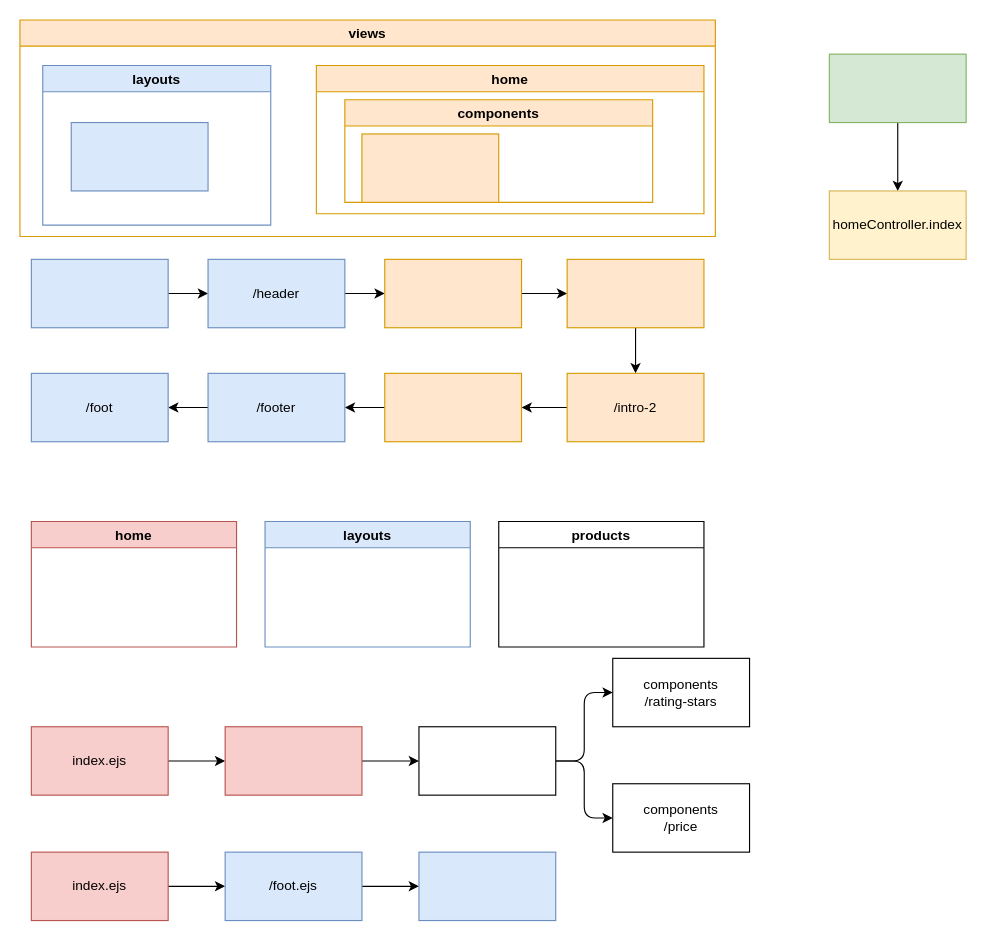
The diagram is 986 pixels wide and 941 high, and some of its shapes have lost their labels. The centre of each missing label's shape, as x and y in pixels:
".get (/)" goes at point (897, 88).
"/gtag.ejs" goes at point (487, 886).
"/head" goes at point (99, 293).
"/hero-unit" goes at point (453, 293).
"/intro-1" goes at point (635, 293).
"/products" goes at point (453, 407).
"components /product-item" goes at point (487, 760).
"components /product.ejs" goes at point (293, 760).
